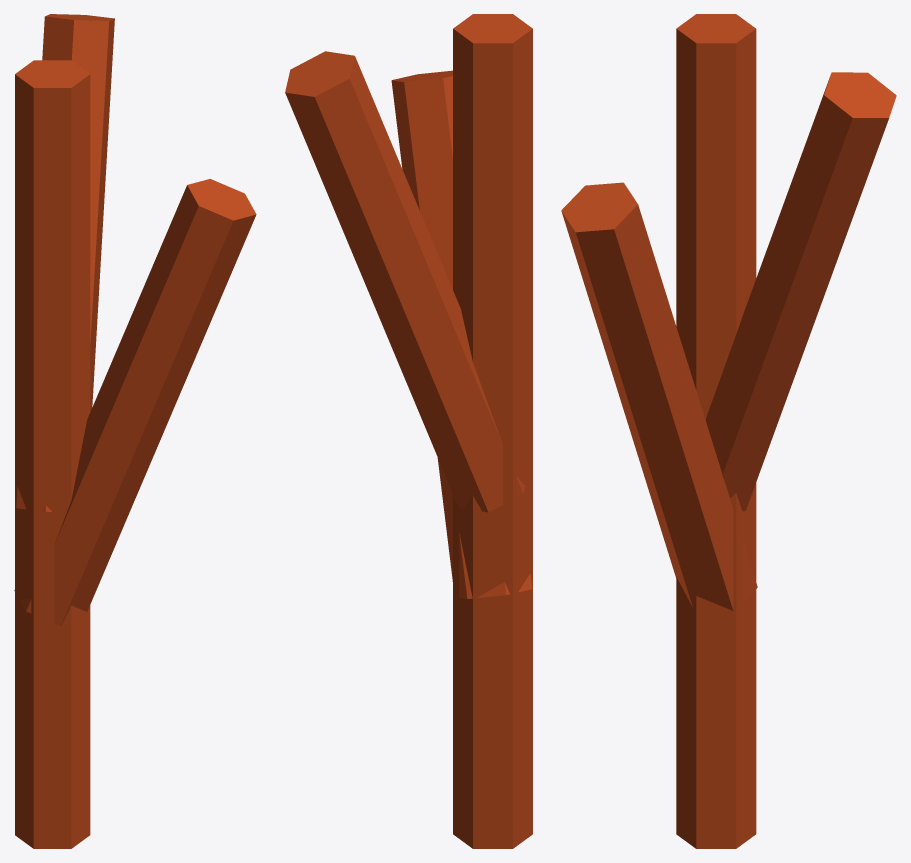
The model's file is senjata_ranting.fbx.
3 views of the same model, side by side, from view 1: azimuth 30°, elevation 25°; view 2: azimuth 150°, elevation 25°; view 3: azimuth 270°, elevation 25° (orthographic). The views are drawn at different scales.
Parts seen in each view (by area): view 1: senjata_ranting; view 2: senjata_ranting; view 3: senjata_ranting.
Boxes of the visible parts, left/top/right/bottom form: senjata_ranting: left=14, top=14, right=256, bottom=848; senjata_ranting: left=285, top=14, right=532, bottom=848; senjata_ranting: left=561, top=14, right=896, bottom=848.
Bounding box in the file's own units: 60 × 247 × 93.17.
